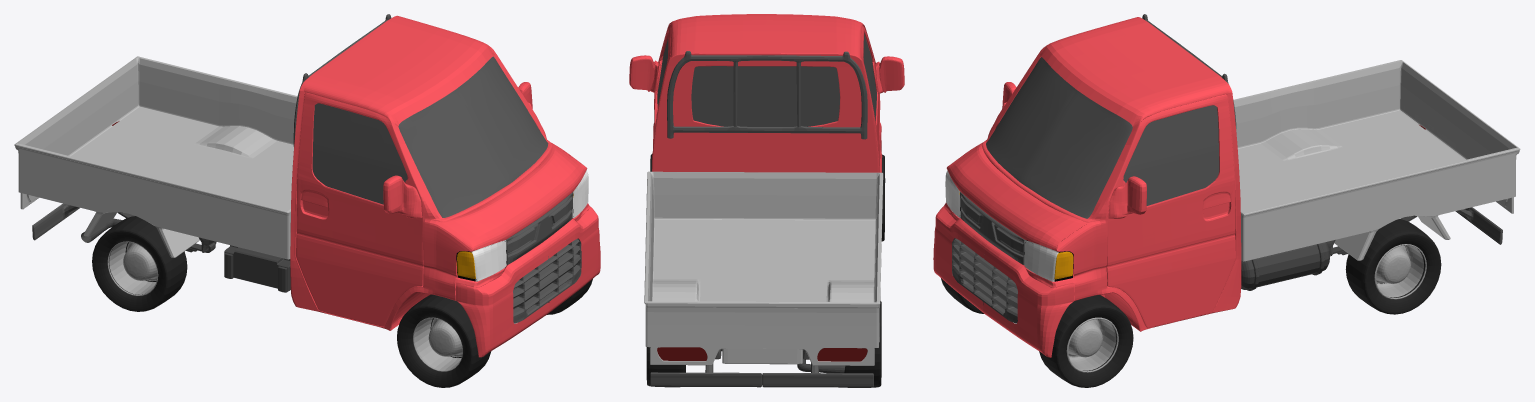
The model's file is pickup.fbx.
The picture shows the model from 3 angles, left to right: view 1: azimuth 30°, elevation 25°; view 2: azimuth 150°, elevation 25°; view 3: azimuth 270°, elevation 25°; orthographic projection. The views are drawn at different scales.
Visible parts, largest first — view 1: Cube.002_Cube.004, Plane_Plane.001, Plane.001_Plane, Plano, Plane.002, Plano.001, Plane.003, Cube.004_Cube.006, Circle.009_Circle.038, Circle.005_Circle.037, Cube.005_Cube.008, Circle.006 (+4 smaller); view 2: Cube.002_Cube.004, Plane_Plane.001, Plano.002, Cube.007_Cube.001, Cube.001, Cube.003_Cube.005, Cubo.001, Plane.001_Plane, Plano.001, Circle.009_Circle.038, Circle.001_Circle.035, Circle.013_Circle.014 (+1 smaller); view 3: Cube.002_Cube.004, Plane_Plane.001, Plane.001_Plane, Plano, Plane.002, Plano.001, Plane.003, Cube.004_Cube.006, Circle.001_Circle.035, Circle.002, Circle.007, Circle (+4 smaller).
Boxes of the visible parts, x1,y1,x2,y2 form: Cube.002_Cube.004: (14,56,297,259); Plane_Plane.001: (290,15,590,330); Plane.001_Plane: (296,56,538,326); Plano: (398,56,548,217); Plane.002: (455,206,600,357); Plano.001: (312,103,407,204); Plane.003: (441,144,586,251); Cube.004_Cube.006: (506,192,581,323); Circle.009_Circle.038: (92,216,187,311); Circle.005_Circle.037: (397,294,491,387); Cube.005_Cube.008: (224,245,290,292); Circle.006: (107,241,158,295); Cube.002_Cube.004: (644,171,883,365); Plane_Plane.001: (652,14,882,172); Plano.002: (691,66,839,126); Cube.007_Cube.001: (667,51,867,139); Cube.001: (650,349,873,387); Cube.003_Cube.005: (629,55,904,93); Cubo.001: (657,347,867,361); Plane.001_Plane: (654,24,880,172); Plano.001: (657,33,876,120); Circle.009_Circle.038: (844,301,881,387); Circle.001_Circle.035: (646,347,685,387); Circle.013_Circle.014: (797,350,845,373); Cube.002_Cube.004: (1233,60,1520,261); Plane_Plane.001: (943,17,1241,331); Plane.001_Plane: (995,56,1235,327); Plano: (986,57,1132,218); Plane.002: (933,206,1074,357); Plano.001: (1123,105,1219,205); Plane.003: (946,143,1088,251); Cube.004_Cube.006: (952,192,1024,323); Circle.001_Circle.035: (1345,219,1441,314); Circle.002: (1039,295,1133,387); Circle.007: (1241,242,1330,290); Circle: (1374,244,1426,299).
Bounding box in the file's own units: 393 × 244 × 491.
